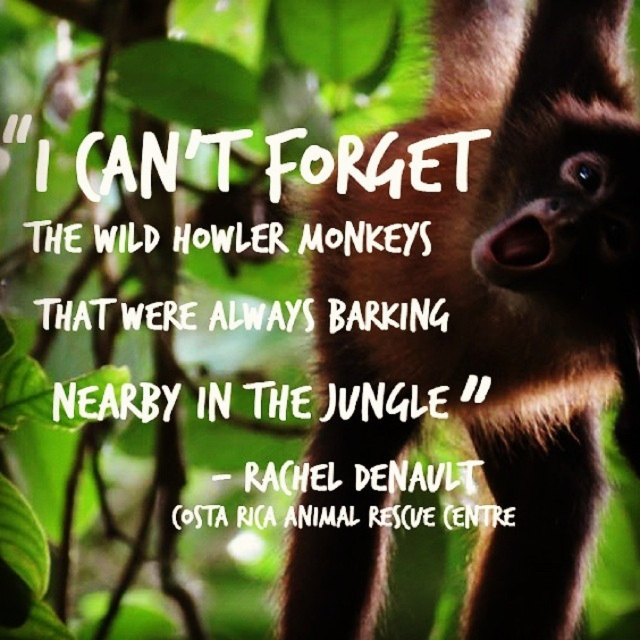Monkey: (354, 0, 640, 621)
